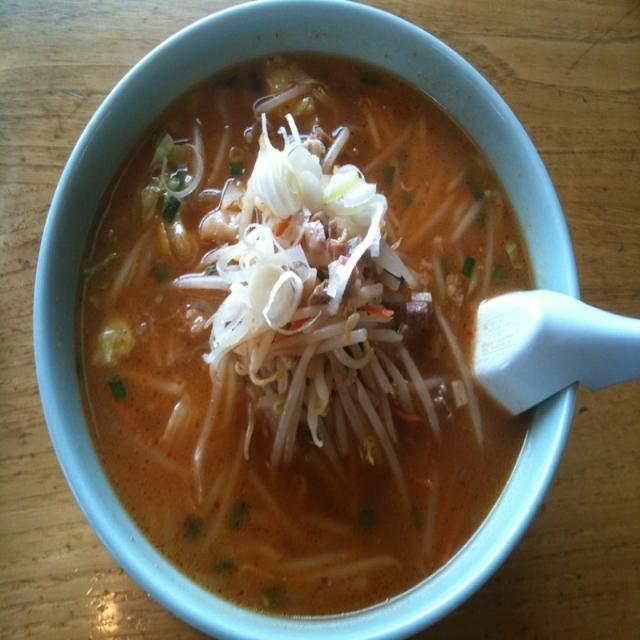面条主食: (44, 56, 577, 604)
